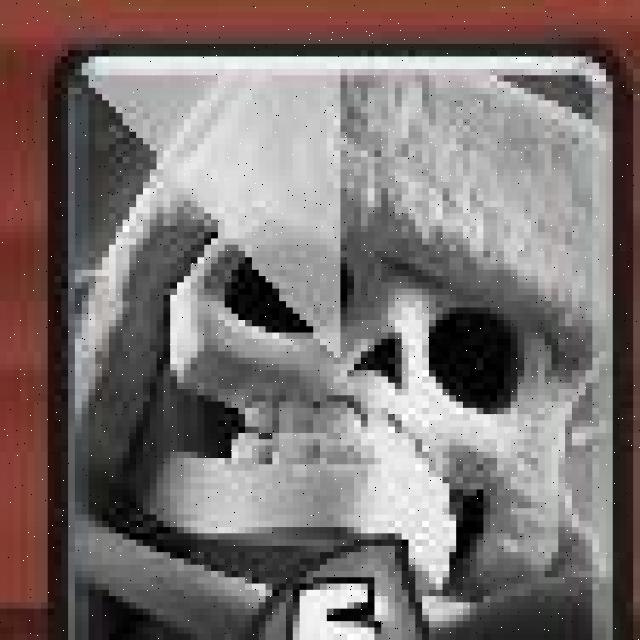Giant_Skeleton: (52, 46, 626, 640)
